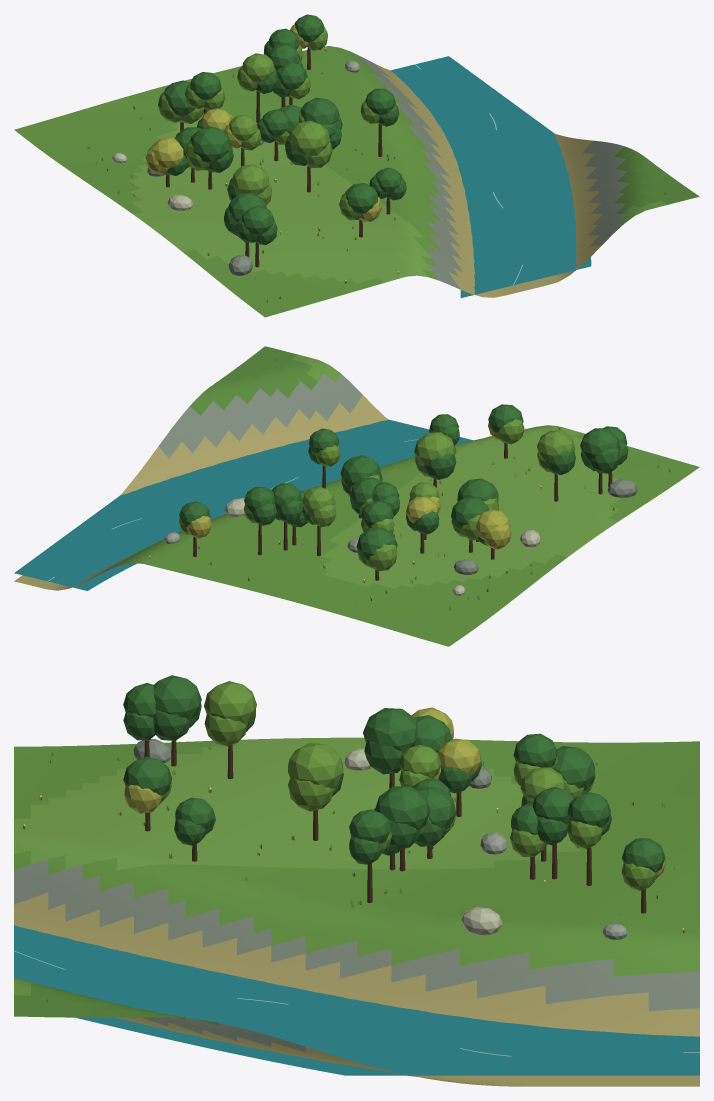
Rendered from Chunk_X0_Y0_Z0.fbx.
3 views of the same model, one above another, from view 1: azimuth 30°, elevation 25°; view 2: azimuth 150°, elevation 25°; view 3: azimuth 270°, elevation 25° (orthographic). The views are drawn at different scales.
Visible parts, largest first — view 1: Terrain.024, Water.003, Canopies.023, Trunks.023, Rocks.024; view 2: Terrain.024, Canopies.023, Water.003, Rocks.024, Trunks.023; view 3: Terrain.024, Water.003, Canopies.023, Rocks.024, Trunks.023.
Part boxes in pixels (left/top/right/bottom): Terrain.024: left=14, top=46, right=699, bottom=317; Water.003: left=391, top=56, right=591, bottom=297; Canopies.023: left=145, top=14, right=406, bottom=245; Trunks.023: left=166, top=48, right=390, bottom=267; Rocks.024: left=112, top=60, right=359, bottom=275; Terrain.024: left=14, top=346, right=699, bottom=646; Canopies.023: left=179, top=404, right=628, bottom=571; Water.003: left=14, top=419, right=473, bottom=590; Rocks.024: left=164, top=479, right=637, bottom=595; Trunks.023: left=193, top=443, right=612, bottom=580; Terrain.024: left=14, top=737, right=699, bottom=1086; Water.003: left=14, top=925, right=699, bottom=1075; Canopies.023: left=123, top=675, right=665, bottom=890; Rocks.024: left=133, top=739, right=627, bottom=939; Trunks.023: left=144, top=740, right=646, bottom=913.
Bounding box in the file's own units: 100 × 25.13 × 100.
